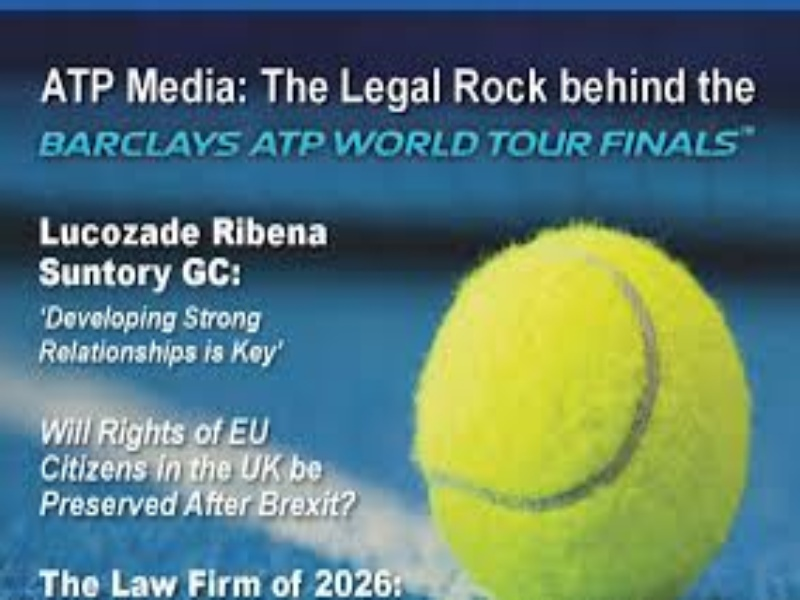tennis ball: (407, 215, 736, 600)
